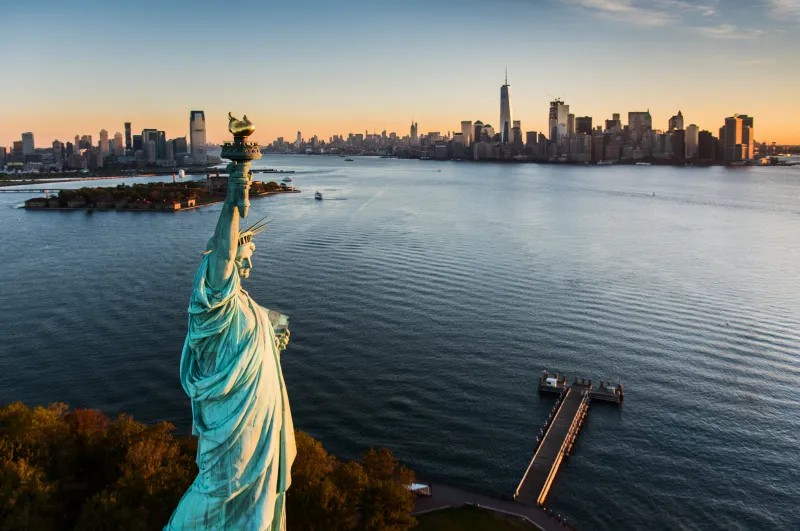SL: (162, 109, 296, 531)
